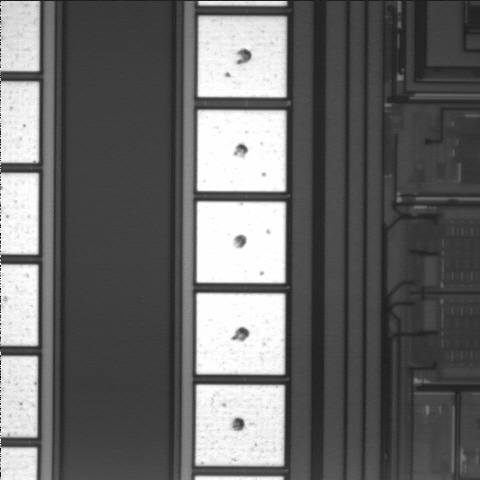pad: (197, 110, 286, 192), (197, 201, 286, 283), (196, 293, 285, 375), (195, 385, 284, 466), (198, 16, 286, 97)
